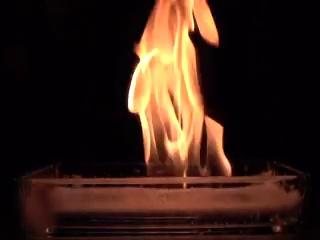Fire: (176, 148, 252, 191)
